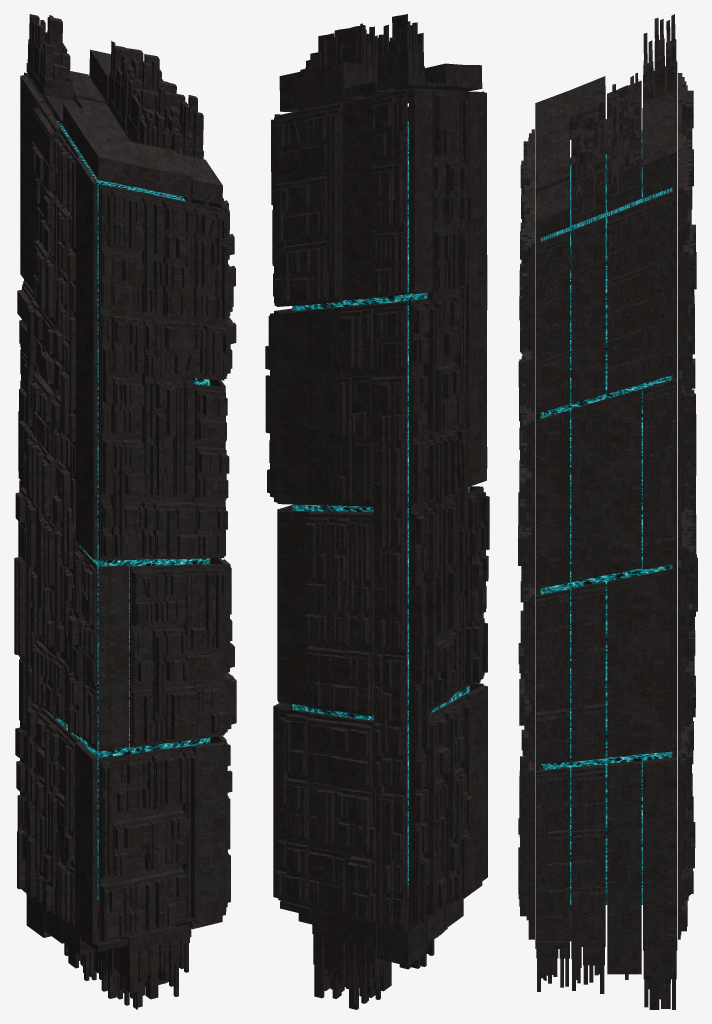
3 renders of one model, left to right at view 1: azimuth 30°, elevation 25°; view 2: azimuth 150°, elevation 25°; view 3: azimuth 270°, elevation 25°, orthographic. The views are drawn at different scales.
Parts seen in each view (by area): view 1: PILLAR_ALPHA_0; view 2: PILLAR_ALPHA_0; view 3: PILLAR_ALPHA_0.
Part boxes in pixels (x1,y1,x2,y2): PILLAR_ALPHA_0: (14,14,236,1009); PILLAR_ALPHA_0: (265,14,489,1009); PILLAR_ALPHA_0: (518,14,697,1009).
Size of the model in its own units: 2.94 by 17.23 by 2.93.
Materials: 2 (2 with a texture image).
